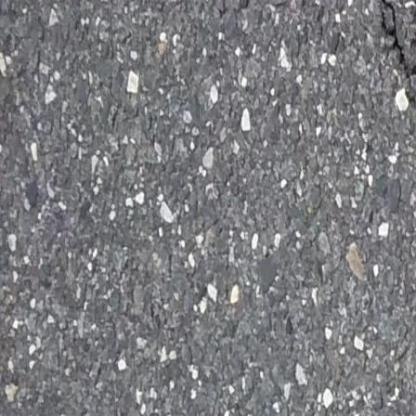Cracks: (355, 2, 416, 146)
